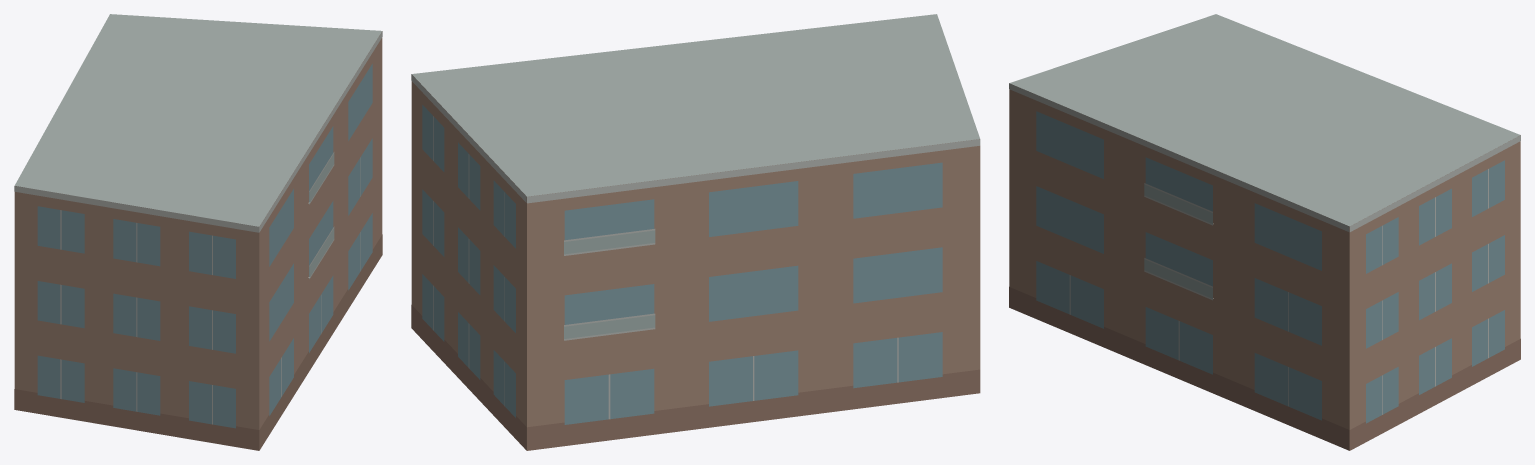
Rendered from survey-upis-32756119.glb.
The picture shows the model from 3 angles, left to right: view 1: azimuth 30°, elevation 25°; view 2: azimuth 150°, elevation 25°; view 3: azimuth 270°, elevation 25°; orthographic projection. The views are drawn at different scales.
Parts seen in each view (by area): view 1: survey-upis-32756119.tmp; view 2: survey-upis-32756119.tmp; view 3: survey-upis-32756119.tmp.
Part boxes in pixels (left/top/right/bottom): survey-upis-32756119.tmp: left=14, top=14, right=382, bottom=450; survey-upis-32756119.tmp: left=411, top=14, right=980, bottom=450; survey-upis-32756119.tmp: left=1009, top=14, right=1520, bottom=450.
Bounding box in the file's own units: 18.58 × 9.15 × 18.91.
